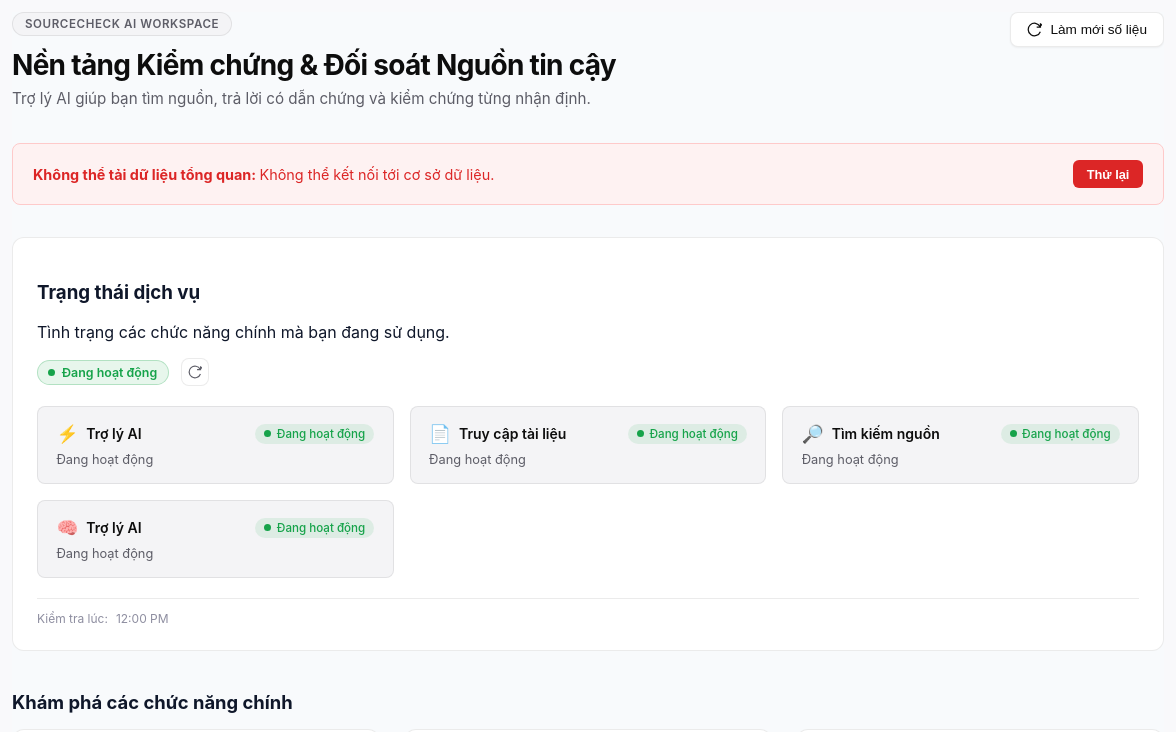
Dashboard & System Overview (FE-04.9) › 7. API Error Handling & Retry: displays error banner and recovers on retry
Check: the element with test id "dashboard-error-banner" is shown, box [12,143,1164,205]
Check: the text "Không thể kết nối tới cơ sở dữ liệu." is shown, box [260,166,494,183]
Note: Click retry
Click the button with test id "btn-dashboard-retry".
click(1108, 174)  # box [1073,160,1143,188]
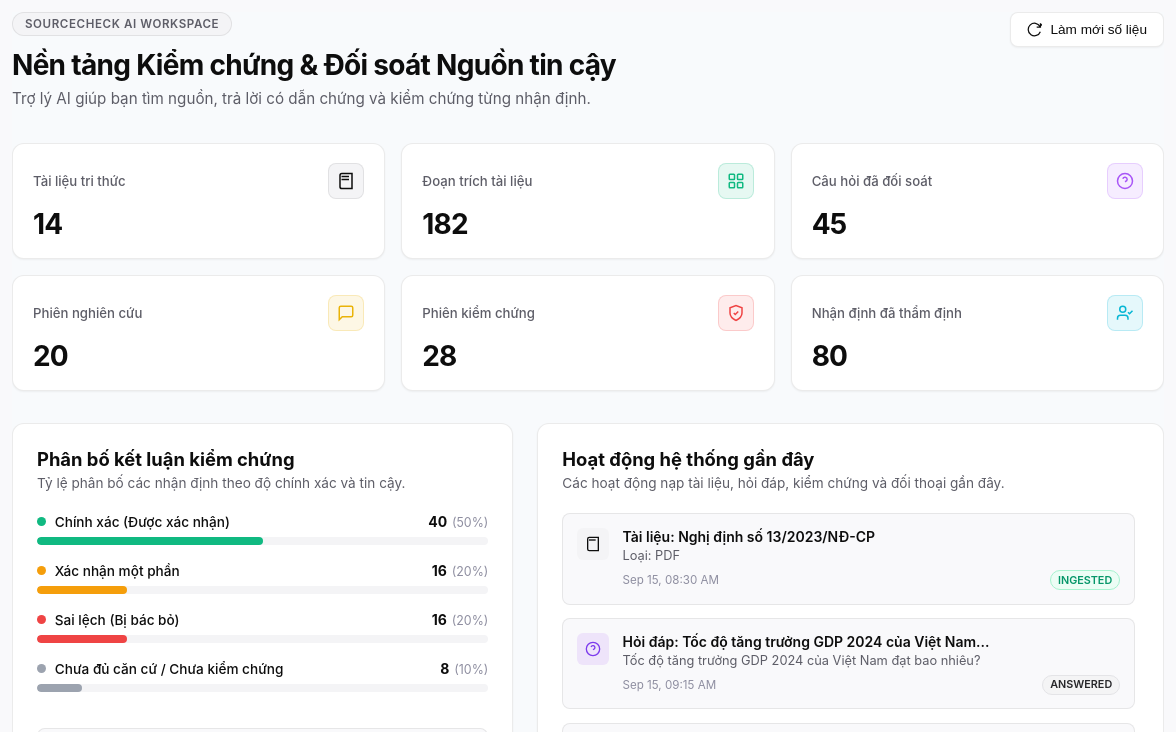
Check: the element with test id "dashboard-error-banner" is gone
Check: the element with test id "dashboard-summary-cards" is shown, box [12,143,1164,391]
